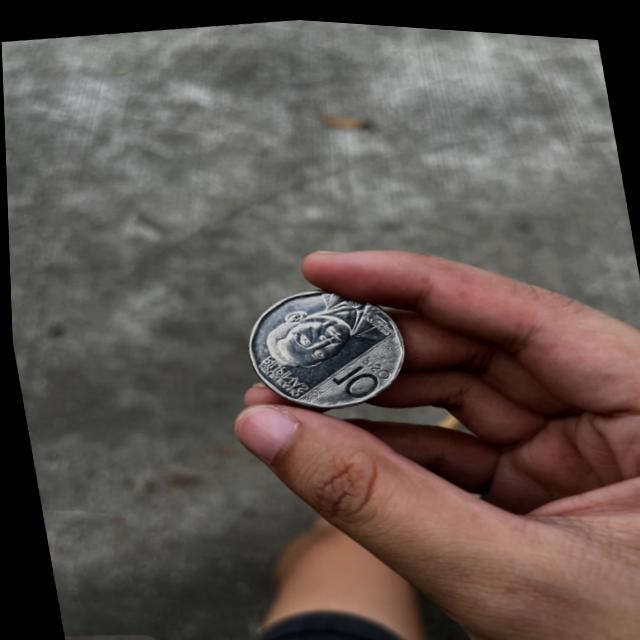10_New_Front: (329, 342, 395, 403)
